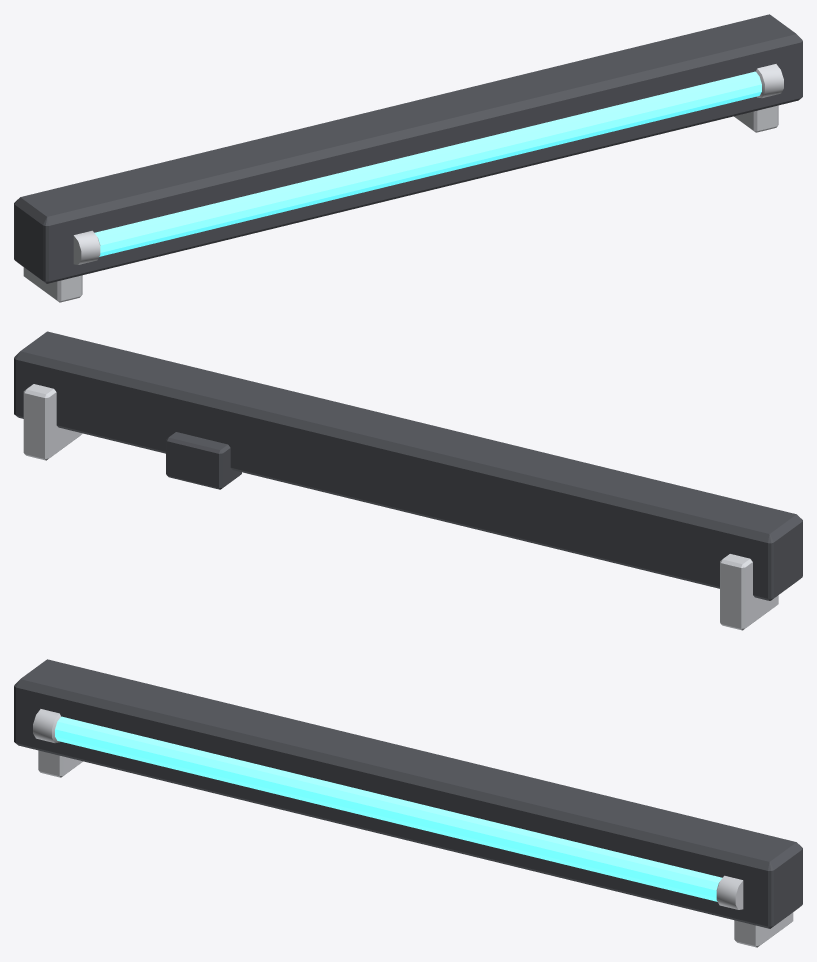
File: cyberpunk-apartment-and-neon-block-neon-strip-run-cyan-9e882f74__37837.glb
3 renders of one model, top to bottom at view 1: azimuth 30°, elevation 25°; view 2: azimuth 150°, elevation 25°; view 3: azimuth 330°, elevation 25°, orthographic.
Parts seen in each view (by area): view 1: neon-strip-run-cyan; view 2: neon-strip-run-cyan; view 3: neon-strip-run-cyan.
Boxes of the visible parts, bbox=[...] form: neon-strip-run-cyan: bbox=[14, 14, 802, 302]; neon-strip-run-cyan: bbox=[14, 331, 802, 630]; neon-strip-run-cyan: bbox=[14, 659, 802, 947].
Size of the model in its own units: 1.2 by 0.14 by 0.1359.
